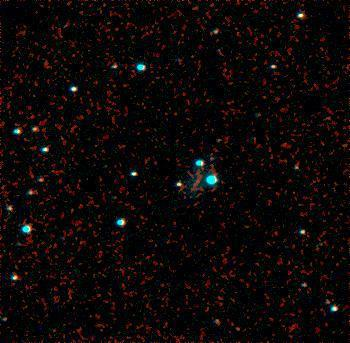star: (223, 314, 253, 343)
